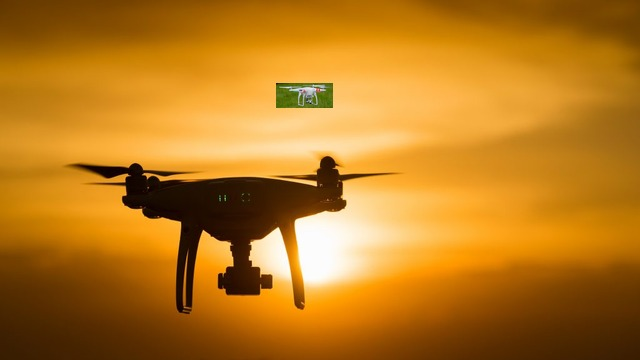drone: (67, 154, 402, 313), (276, 83, 333, 108)
